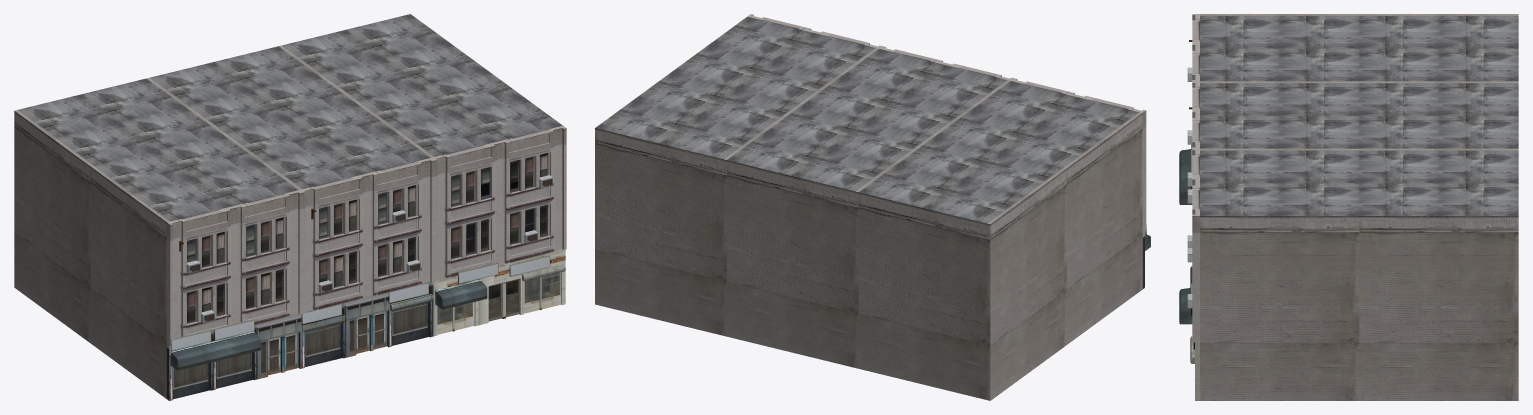
File: Building3.glb
3 views of the same model, side by side, from view 1: azimuth 30°, elevation 25°; view 2: azimuth 150°, elevation 25°; view 3: azimuth 270°, elevation 25° (orthographic). The views are drawn at different scales.
Visible parts, largest first — view 1: Brownstone_FlatFacade_9_B_Brownstone_Facade_Flr_4_0, Brownstone_FlatFacade_9_B_Brownstone_Facade_FLR_7_0; view 2: Brownstone_FlatFacade_9_B_Brownstone_Facade_Flr_4_0; view 3: Brownstone_FlatFacade_9_B_Brownstone_Facade_Flr_4_0, Brownstone_FlatFacade_9_B_Brownstone_Facade_FLR_7_0.
Boxes of the visible parts, bbox=[...] form: Brownstone_FlatFacade_9_B_Brownstone_Facade_Flr_4_0: bbox=[14, 14, 566, 398]; Brownstone_FlatFacade_9_B_Brownstone_Facade_FLR_7_0: bbox=[166, 175, 565, 400]; Brownstone_FlatFacade_9_B_Brownstone_Facade_Flr_4_0: bbox=[595, 14, 1146, 400]; Brownstone_FlatFacade_9_B_Brownstone_Facade_Flr_4_0: bbox=[1192, 14, 1518, 400]; Brownstone_FlatFacade_9_B_Brownstone_Facade_FLR_7_0: bbox=[1179, 40, 1199, 400].
Bounding box in the file's own units: 30 × 12.79 × 21.3.
Materials: 2 (2 with a texture image).
